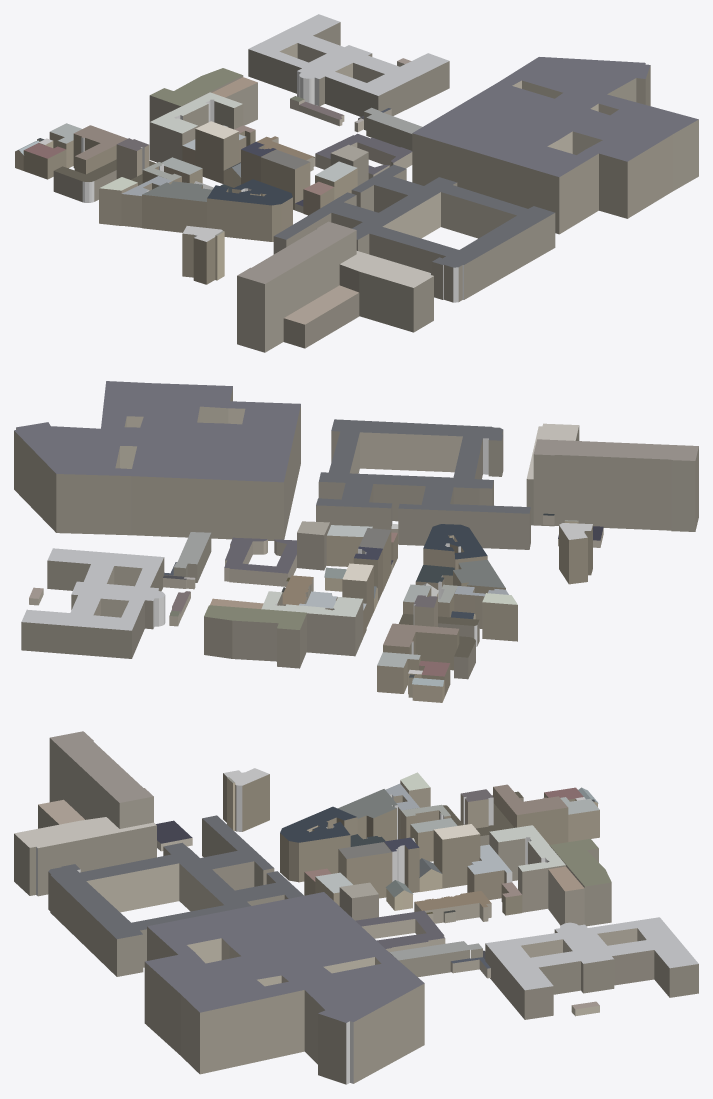
3 views of the same model, one above another, from view 1: azimuth 30°, elevation 25°; view 2: azimuth 150°, elevation 25°; view 3: azimuth 270°, elevation 25° (orthographic). The views are drawn at different scales.
Visible parts, largest first — view 1: tuile; view 2: tuile; view 3: tuile.
Boxes of the visible parts, x1,y1,x2,y2 form: tuile: (15, 14, 698, 352); tuile: (14, 381, 698, 702); tuile: (14, 731, 698, 1084).
Bounding box in the file's own units: 302 × 37.14 × 310.
